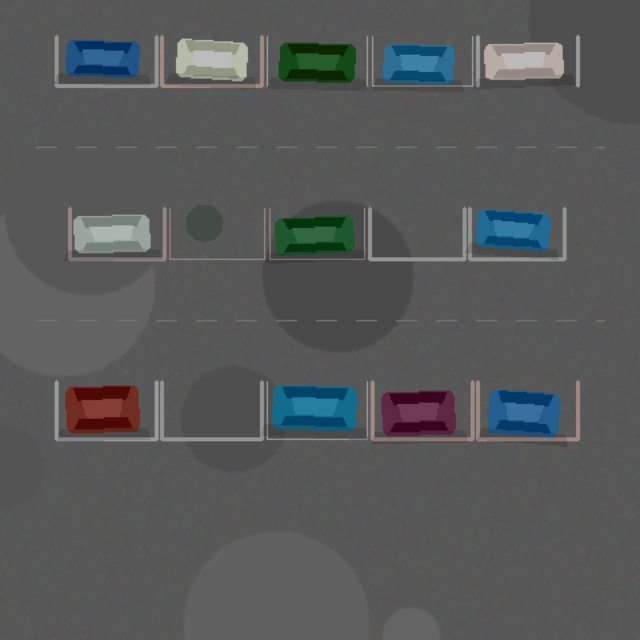space-empty: (161, 381, 261, 439), (169, 208, 264, 259), (369, 208, 464, 259)
space-occupied: (56, 381, 156, 439), (267, 381, 367, 439), (372, 381, 472, 439), (477, 381, 577, 439), (56, 36, 156, 85), (161, 36, 261, 85), (267, 36, 367, 85), (372, 36, 472, 85), (477, 36, 577, 85), (69, 208, 164, 259), (269, 208, 364, 259), (469, 208, 564, 259)
